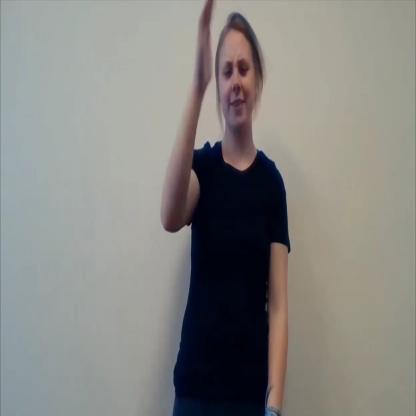Hello: (171, 0, 283, 180)
